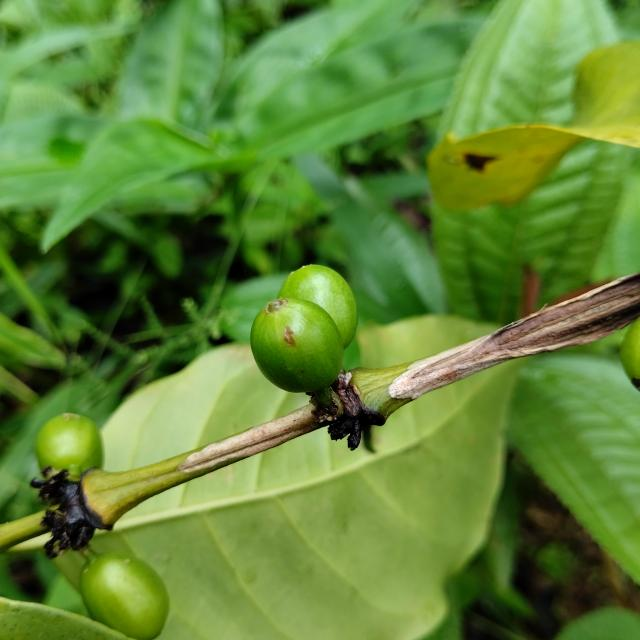green: (250, 298, 344, 393), (79, 553, 169, 640), (278, 264, 358, 348), (35, 414, 103, 477)
